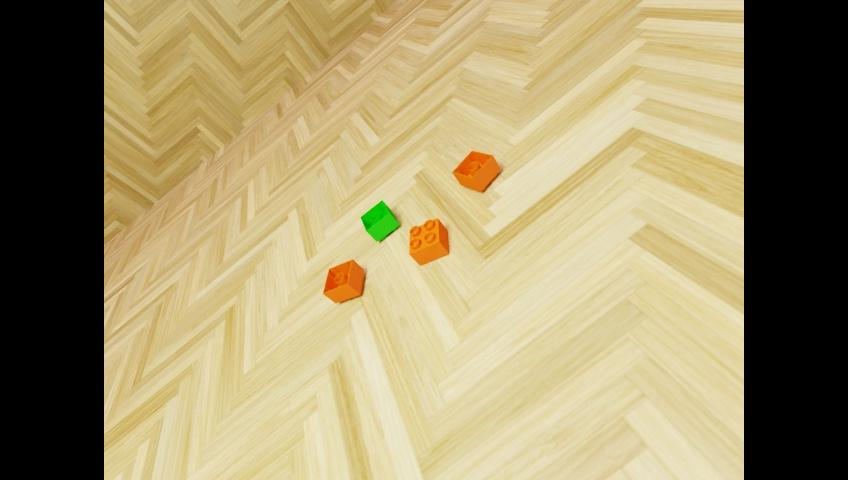2x2_green: (360, 199, 397, 241)
2x2_orange: (452, 150, 500, 191), (409, 217, 448, 265), (322, 258, 363, 303)
